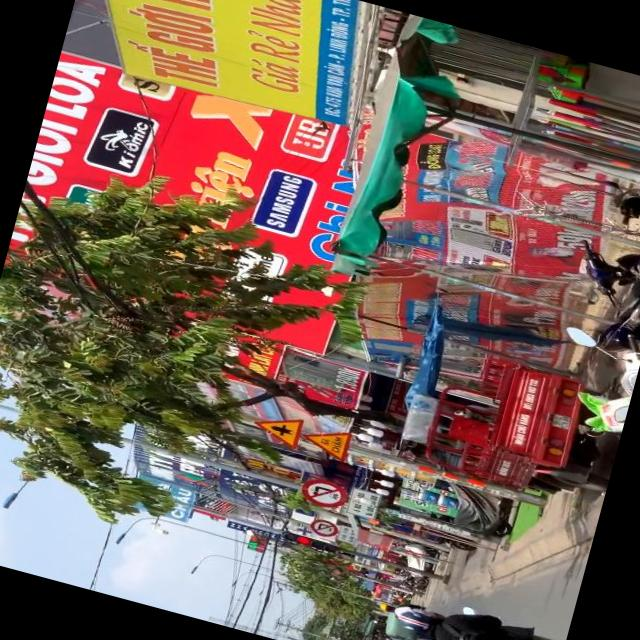W-207a: (258, 412, 298, 443)
W-245a: (295, 419, 351, 459)
